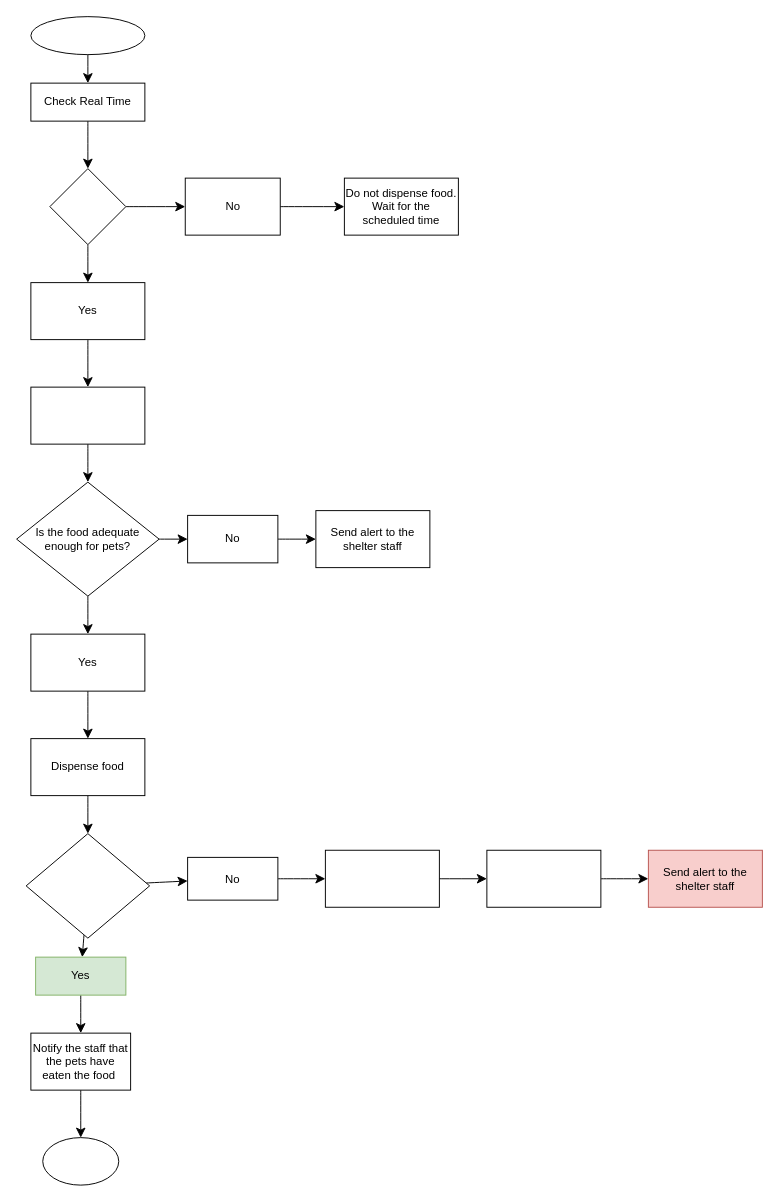
This 779x1202 diagram has some shape labels left out. The centre of each missing label's shape, as x and y in pixels:
Check food bin to ensure sufficient food is available: the point at 87,415
Did the pets eat the food?: the point at 87,885
End: the point at 80,1161
Feeding Time?: the point at 87,206
Pets have still not eaten food.: the point at 543,878
Start: the point at 87,35
Wait for 30 mins and check if the pets have eaten the food: the point at 381,878
